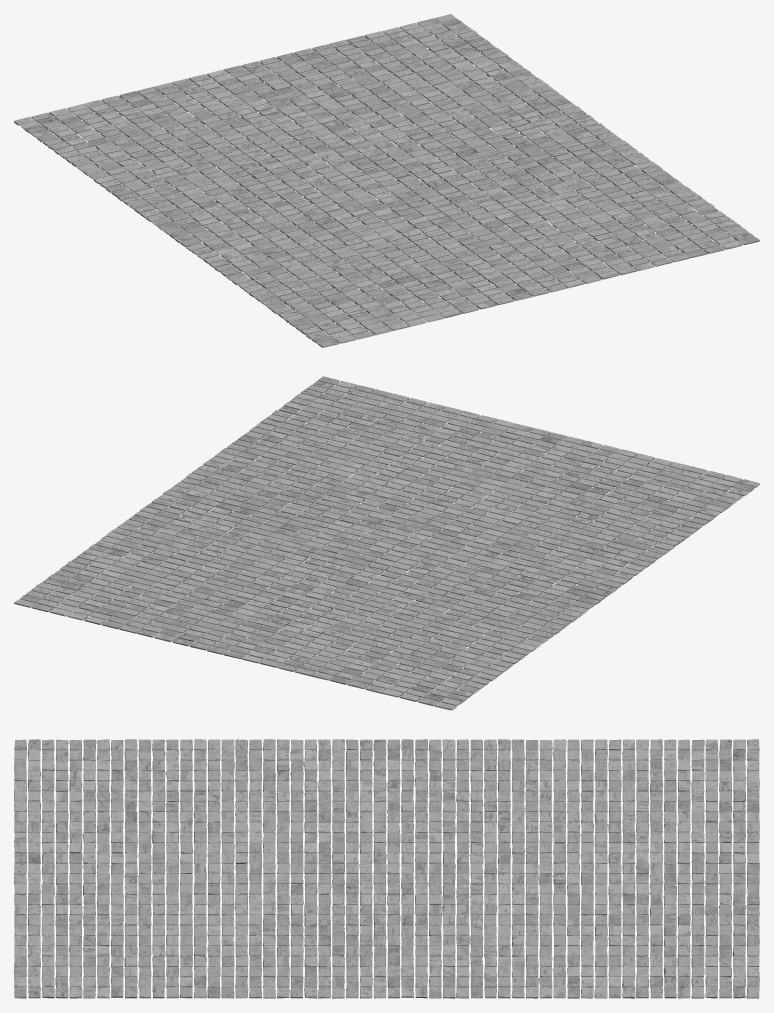
The model's file is Chão Morte.fbx.
3 views of the same model, one above another, from view 1: azimuth 30°, elevation 25°; view 2: azimuth 150°, elevation 25°; view 3: azimuth 270°, elevation 25° (orthographic). The views are drawn at different scales.
Visible parts, largest first — view 1: Cube; view 2: Cube; view 3: Cube.
Part boxes in pixels (<box>): Cube: <box>14,14,759,347</box>; Cube: <box>14,376,759,710</box>; Cube: <box>14,739,759,998</box>.
Bounding box in the file's own units: 23168 × 81.33 × 28287.
Materials: 1 (1 with a texture image).
